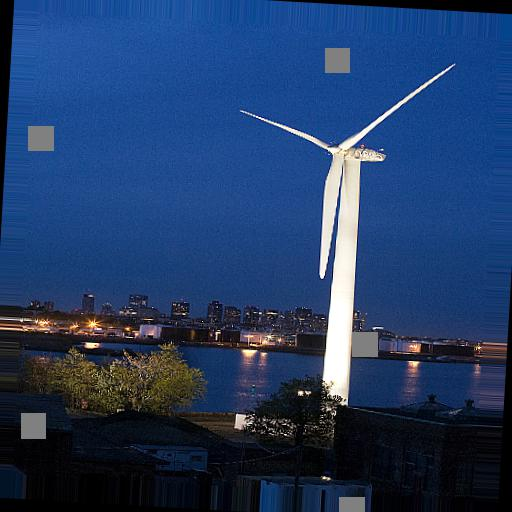wind turbine: (237, 61, 455, 402)
